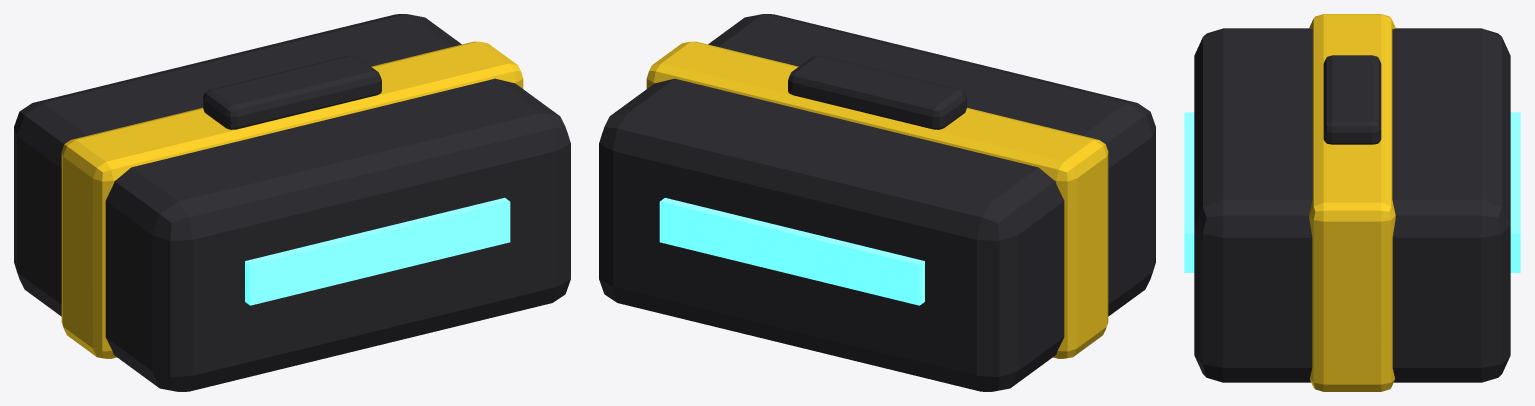
The model's file is ammo_drop.glb.
3 renders of one model, left to right at view 1: azimuth 30°, elevation 25°; view 2: azimuth 150°, elevation 25°; view 3: azimuth 270°, elevation 25°, orthographic. The views are drawn at different scales.
Visible parts, largest first — view 1: Drop; view 2: Drop; view 3: Drop.
Part boxes in pixels (left/top/right/bottom): Drop: left=14, top=14, right=570, bottom=391; Drop: left=599, top=14, right=1155, bottom=391; Drop: left=1184, top=14, right=1520, bottom=391.
Size of the model in its own units: 0.33 by 0.1605 by 0.234.
